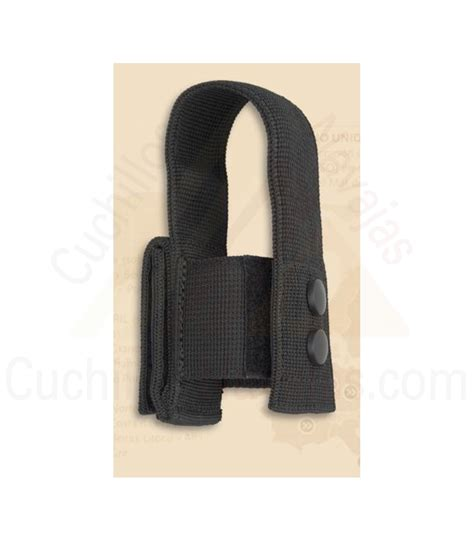nylon: (140, 80, 337, 426)
